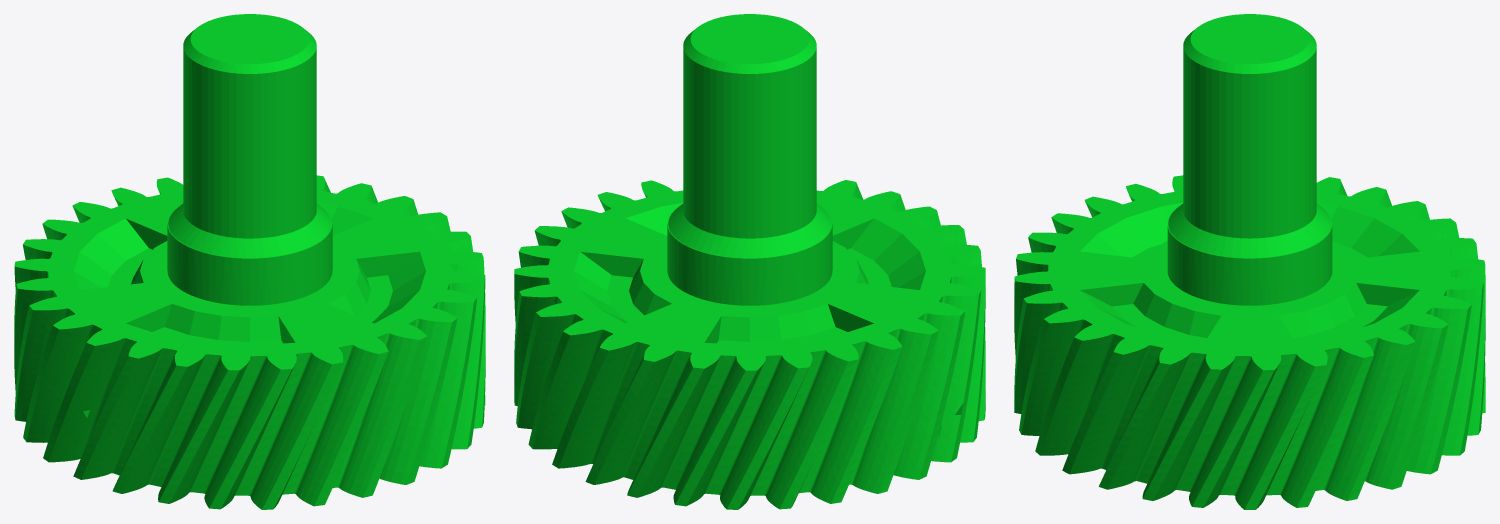
Rendered from largeGear_v1.dae.
3 views of the same model, side by side, from view 1: azimuth 30°, elevation 25°; view 2: azimuth 150°, elevation 25°; view 3: azimuth 270°, elevation 25° (orthographic).
Visible parts, largest first — view 1: node0; view 2: node0; view 3: node0.
Boxes of the visible parts, left/top/right/bottom form: node0: left=14, top=14, right=485, bottom=509; node0: left=514, top=14, right=985, bottom=509; node0: left=1014, top=14, right=1485, bottom=509.
Bounding box in the file's own units: 0.0635 × 0.0635 × 0.0552.
